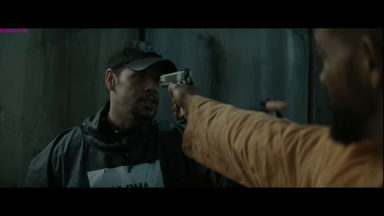firearm: (159, 69, 193, 89)
